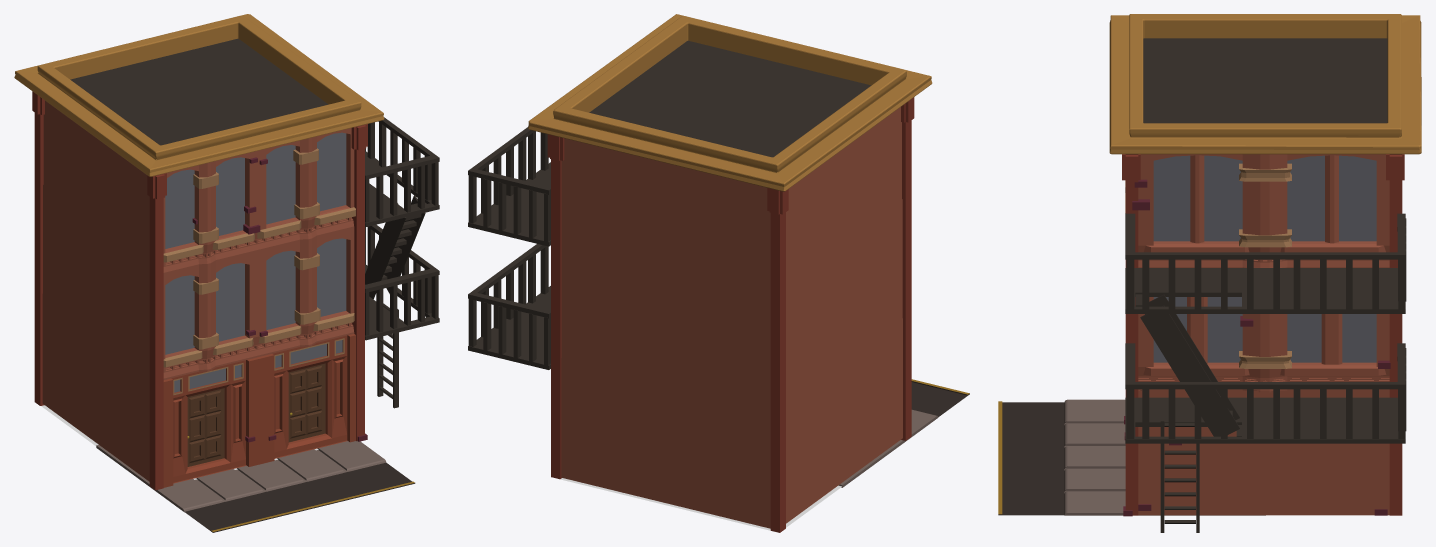
Rendered from LowPolyBuilding1.fbx.
The picture shows the model from 3 angles, left to right: view 1: azimuth 30°, elevation 25°; view 2: azimuth 150°, elevation 25°; view 3: azimuth 270°, elevation 25°; orthographic projection. The views are drawn at different scales.
Parts seen in each view (by area): view 1: Teto, Teto.001, Parede.001, Parede.010, Parede.011, Sacada, Parede.002, Parede, Parede.004, Calçada, Rua, Pilastra.002 (+19 smaller); view 2: Parede.007, Parede.008, Teto, Parede.009, Teto.001, Sacada, Parede.010, Parede.011, Parede, Pilastra.003, Pilastra.001, Pilastra.002 (+3 smaller); view 3: Sacada, Teto, Teto.001, Parede.006, Parede.005, Parede.003, Calçada, Rua, Janela.009, Janela.010, Janela.011, Escada (+8 smaller).
Part boxes in pixels (x1,y1,x2,y2): Teto: [14, 14, 384, 176]; Teto.001: [70, 38, 328, 145]; Parede.001: [163, 334, 355, 487]; Parede.010: [42, 294, 149, 481]; Parede.011: [43, 185, 149, 371]; Sacada: [365, 117, 439, 340]; Parede.002: [163, 228, 354, 379]; Parede: [43, 100, 149, 262]; Parede.004: [163, 128, 354, 274]; Calçada: [96, 441, 386, 512]; Rua: [185, 462, 415, 532]; Pilastra.002: [147, 173, 166, 490]; Parede.007: [561, 358, 770, 528]; Parede.008: [561, 239, 770, 408]; Teto: [528, 14, 932, 191]; Parede.009: [561, 138, 770, 289]; Teto.001: [589, 40, 871, 157]; Sacada: [468, 127, 550, 369]; Parede.010: [786, 318, 902, 523]; Parede.011: [786, 199, 902, 403]; Parede: [786, 107, 901, 283]; Pilastra.003: [767, 188, 788, 532]; Pilastra.001: [547, 134, 564, 479]; Pilastra.002: [901, 97, 914, 440]; Sacada: [1125, 213, 1406, 443]; Teto: [1109, 14, 1421, 154]; Teto.001: [1143, 38, 1387, 123]; Parede.006: [1138, 391, 1389, 515]; Parede.005: [1138, 154, 1389, 267]; Parede.003: [1138, 297, 1389, 392]; Calçada: [1064, 399, 1265, 515]; Rua: [998, 402, 1064, 515]; Janela.009: [1153, 155, 1242, 241]; Janela.010: [1287, 155, 1376, 241]; Janela.011: [1153, 297, 1376, 362]; Escada: [1140, 294, 1239, 436].
Size of the model in its own units: 294 by 322 by 316.
